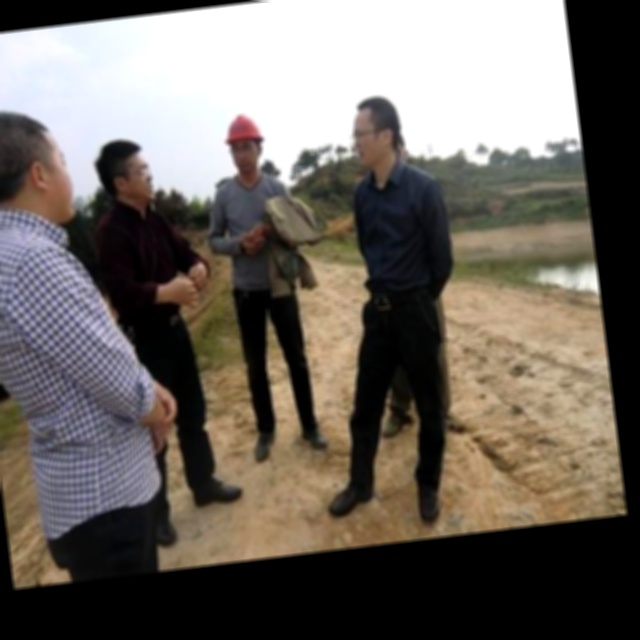Con_Casco: (219, 111, 273, 174)
Sin_Casco_Mascarrilla: (0, 100, 76, 226), (345, 95, 407, 175), (92, 138, 162, 207)
